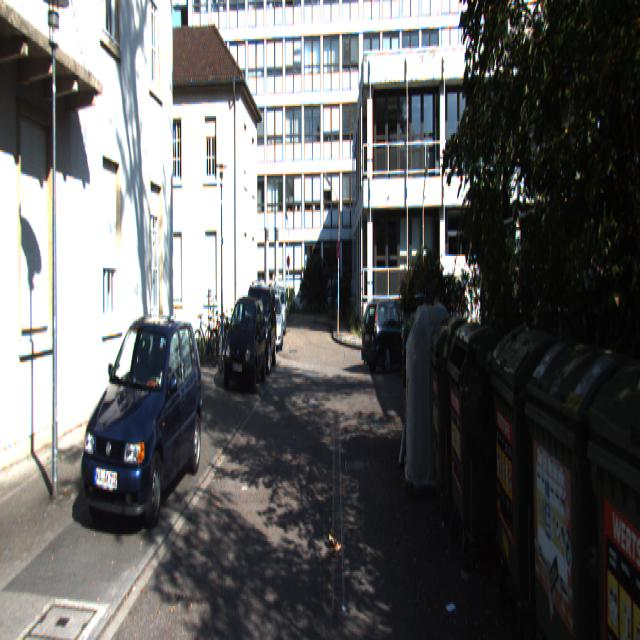Car: (77, 300, 203, 524), (360, 294, 422, 374), (222, 298, 267, 395), (240, 279, 278, 376), (263, 293, 284, 350)
